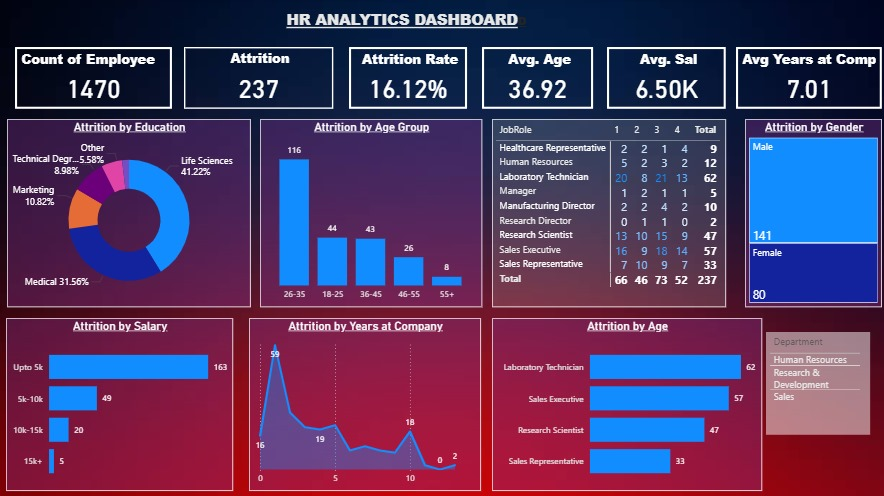

This screenshot's page, from the dashboard's own definition file:
{"tool":"powerbi","page":{"name":"Page 1","canvas":[1280,720],"ordinal":0},"visuals":[{"type":"card","title":"Count of Employee","fields":{"Values":["CountNonNull(HR_Analytics.EmpID)"]},"box":[24.5,69.1,226.1,89.3],"z":0},{"type":"card","title":"Attrition","fields":{"Values":["Sum(HR_Analytics.Attriton_Count)"]},"box":[267.8,69.1,214.6,89.3],"z":1000},{"type":"card","title":"Avg Years at Comp","fields":{"Values":["Avg(HR_Analytics.YearsAtCompany)"]},"box":[1062.7,69.1,210.2,89.3],"z":2000},{"type":"card","title":"Avg. Sal","fields":{"Values":["Avg(HR_Analytics.MonthlyIncome)"]},"box":[877,69.1,171.4,89.3],"z":3000},{"type":"card","title":"Avg. Age","fields":{"Values":["Avg(HR_Analytics.Age)"]},"box":[697,69.1,159.8,89.3],"z":4000},{"type":"card","title":"Attrition Rate","fields":{"Values":["HR_Analytics.Attritoon_Rate"]},"box":[505.4,69.1,169.9,89.3],"z":5000},{"type":"donutChart","title":"Attrition by Education","fields":{"Category":["HR_Analytics.EducationField"],"Y":["CountNonNull(HR_Analytics.Attrition)"]},"box":[13,172.8,351.4,270.7],"z":6000},{"type":"columnChart","title":"Attrition by Age Group","fields":{"Category":["HR_Analytics.AgeGroup"],"Y":["Sum(HR_Analytics.Attriton_Count)"]},"box":[377.3,172.8,319.7,270.7],"z":7000},{"type":"pivotTable","fields":{"Rows":["HR_Analytics.JobRole"],"Columns":["HR_Analytics.JobSatisfaction"],"Values":["Sum(HR_Analytics.Attriton_Count)"]},"box":[711.4,172.8,337,270.7],"z":8000},{"type":"barChart","title":"Attrition by Salary","fields":{"Category":["HR_Analytics.SalarySlab"],"Y":["Sum(HR_Analytics.Attriton_Count)"]},"box":[11.5,459.4,326.9,249.1],"z":9000},{"type":"barChart","title":"Attrition by Age","fields":{"Category":["HR_Analytics.JobRole"],"Y":["Sum(HR_Analytics.Attriton_Count)"]},"box":[711.4,459.4,388.8,249.1],"z":10000},{"type":"areaChart","title":"Attrition by Years at Company","fields":{"Category":["HR_Analytics.YearsAtCompany"],"Y":["Sum(HR_Analytics.Attriton_Count)"]},"box":[361.4,459.4,334.1,249.1],"z":11000},{"type":"treemap","title":"Attrition by Gender","fields":{"Group":["HR_Analytics.Gender"],"Values":["Sum(HR_Analytics.Attriton_Count)"]},"box":[1075.7,172.8,197.3,270.7],"z":12000},{"type":"tableEx","fields":{"Values":["HR_Analytics.Department"]},"box":[1105.9,479.5,149.8,148.3],"z":13000},{"type":"textbox","box":[410.4,10.1,367.2,46.1],"z":14000}]}

Visuals, with their boxes in screenshot pixels (x1, y1, x2, y2), scaled from the page's 1280x720 canvas onto the 884x496 screenshot:
"Count of Employee" card: x1=17, y1=48, x2=173, y2=109
"Attrition" card: x1=185, y1=48, x2=333, y2=109
"Avg Years at Comp" card: x1=734, y1=48, x2=879, y2=109
"Avg. Sal" card: x1=606, y1=48, x2=724, y2=109
"Avg. Age" card: x1=481, y1=48, x2=592, y2=109
"Attrition Rate" card: x1=349, y1=48, x2=466, y2=109
"Attrition by Education" donutChart: x1=9, y1=119, x2=252, y2=306
"Attrition by Age Group" columnChart: x1=261, y1=119, x2=481, y2=306
pivotTable - HR_Analytics.JobRole x HR_Analytics.JobSatisfaction: x1=491, y1=119, x2=724, y2=306
"Attrition by Salary" barChart: x1=8, y1=316, x2=234, y2=488
"Attrition by Age" barChart: x1=491, y1=316, x2=760, y2=488
"Attrition by Years at Company" areaChart: x1=250, y1=316, x2=480, y2=488
"Attrition by Gender" treemap: x1=743, y1=119, x2=879, y2=306
tableEx - HR_Analytics.Department: x1=764, y1=330, x2=867, y2=432
textbox: x1=283, y1=7, x2=537, y2=39
